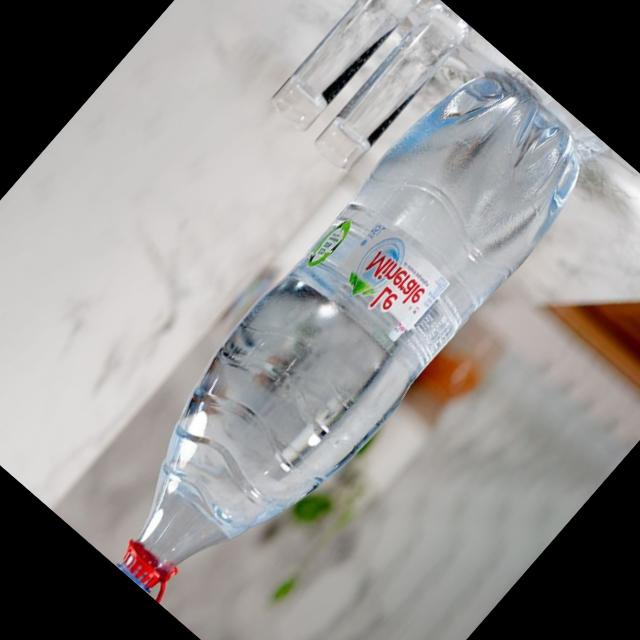Galon: (63, 46, 612, 638)
